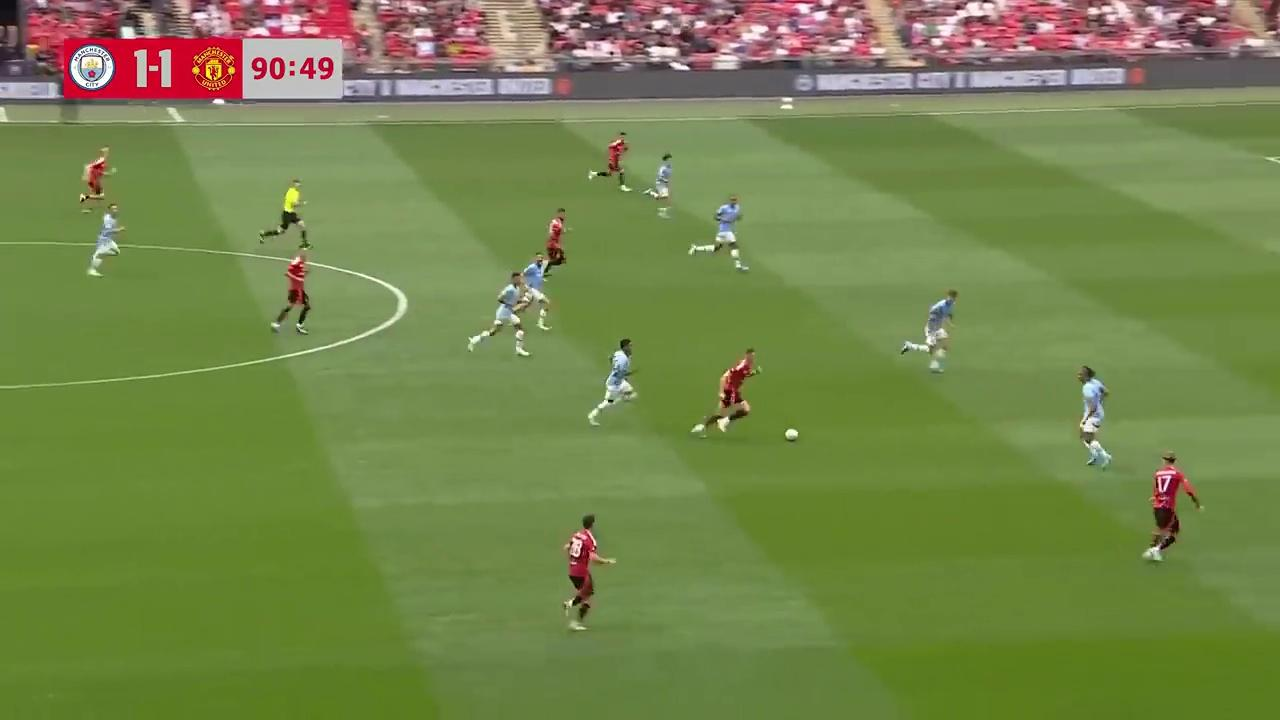ball: (783, 424, 800, 442)
player: (1142, 451, 1204, 562), (561, 513, 616, 629), (470, 271, 530, 357), (706, 347, 762, 435), (482, 269, 538, 350), (587, 337, 637, 424), (270, 243, 313, 334), (259, 177, 309, 247), (1077, 365, 1110, 467), (707, 195, 748, 271), (923, 289, 958, 374), (517, 251, 552, 331), (87, 203, 124, 275), (79, 147, 114, 213), (593, 131, 630, 192), (642, 153, 673, 217), (544, 207, 571, 272)
referee: (259, 176, 310, 248)
